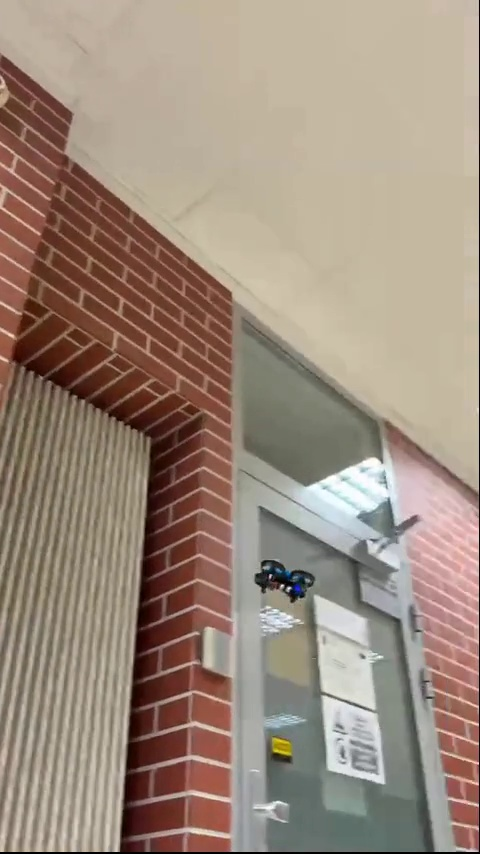drone: (253, 555, 324, 605)
